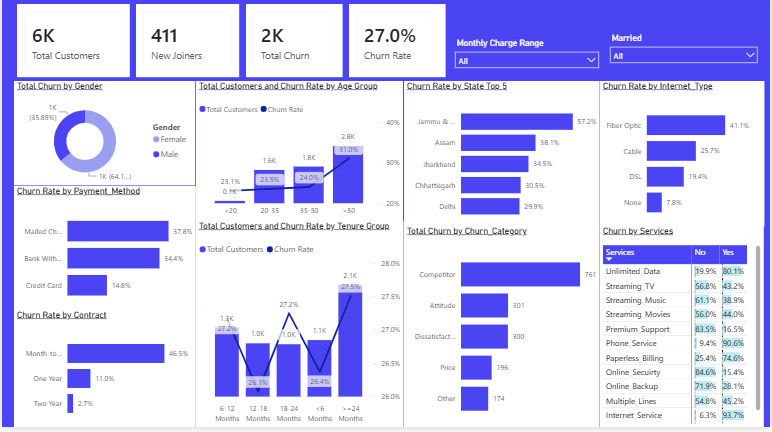

The page's visual inventory and layout, read from the dashboard file:
{"tool":"powerbi","page":{"name":"Summary","canvas":[1280,720],"ordinal":0},"visuals":[{"type":"cardVisual","fields":{"Data":["Tbl_Measures.Total Customers"]},"box":[20,10,198.8,132.5],"z":0},{"type":"cardVisual","fields":{"Data":["Tbl_Measures.New Joiners"]},"box":[218.8,10,182.5,132.5],"z":1000},{"type":"cardVisual","fields":{"Data":["Tbl_Measures.Total Churn"]},"box":[401.7,10,171.3,132.7],"z":2000},{"type":"cardVisual","fields":{"Data":["Tbl_Measures.Churn Rate"]},"box":[573.3,10,171.3,132.7],"z":4000},{"type":"lineStackedColumnComboChart","fields":{"Category":["Mapping_AgeGrp.Age Group"],"Y":["Tbl_Measures.Total Customers"],"Y2":["Tbl_Measures.Churn Rate"]},"box":[323.8,142.5,345,233.8],"z":5000},{"type":"clusteredBarChart","fields":{"Category":["prod_Churn.Payment_Method"],"Y":["Tbl_Measures.Churn Rate"]},"box":[20,317.5,302.5,207.5],"z":6000},{"type":"clusteredBarChart","fields":{"Category":["prod_Churn.Contract"],"Y":["Tbl_Measures.Churn Rate"]},"box":[20,525,302.5,195],"z":7000},{"type":"lineStackedColumnComboChart","fields":{"Category":["Mapping_TenureGrp.Tenure Group"],"Y":["Tbl_Measures.Total Customers"],"Y2":["Tbl_Measures.Churn Rate"]},"box":[322.5,376.2,346,344],"z":8000},{"type":"clusteredBarChart","title":"Churn Rate by State Top 5","fields":{"Category":["prod_Churn.State"],"Y":["Tbl_Measures.Churn Rate"]},"box":[670,142.5,326.2,242.5],"z":9000},{"type":"clusteredBarChart","fields":{"Category":["prod_Churn.Churn_Category"],"Y":["Tbl_Measures.Total Churn"]},"box":[670,385,326.2,335],"z":10000},{"type":"clusteredBarChart","fields":{"Category":["prod_Churn.Internet_Type"],"Y":["Tbl_Measures.Churn Rate"]},"box":[996.2,142.5,273.8,242.5],"z":11000},{"type":"pivotTable","title":"Churn by Services","fields":{"Rows":["prod_Services.Services"],"Columns":["prod_Services.Status"],"Values":["Sum(prod_Services.Churn Status)"]},"box":[996.2,385,272.5,335],"z":12000},{"type":"slicer","fields":{"Values":["prod_Services.Monthly Charge Status"]},"box":[745,66.2,260,76],"z":13000},{"type":"slicer","fields":{"Values":["prod_Churn.Married"]},"box":[1003.8,57.5,266.2,75],"z":14000},{"type":"donutChart","fields":{"Category":["prod_Churn.Gender"],"Y":["Tbl_Measures.Total Churn"]},"box":[20.2,142.6,302.4,174.2],"z":15000}]}

Visuals, with their boxes in screenshot pixels (x1, y1, x2, y2), scaled from the page's 1280x720 canvas onto the 772x432 screenshot:
cardVisual - Tbl_Measures.Total Customers: 12 6 132 86
cardVisual - Tbl_Measures.New Joiners: 132 6 242 86
cardVisual - Tbl_Measures.Total Churn: 242 6 346 86
cardVisual - Tbl_Measures.Churn Rate: 346 6 449 86
lineStackedColumnComboChart - Mapping_AgeGrp.Age Group x Tbl_Measures.Total Customers: 195 86 403 226
clusteredBarChart - prod_Churn.Payment_Method x Tbl_Measures.Churn Rate: 12 190 195 315
clusteredBarChart - prod_Churn.Contract x Tbl_Measures.Churn Rate: 12 315 195 431
lineStackedColumnComboChart - Mapping_TenureGrp.Tenure Group x Tbl_Measures.Total Customers: 195 226 403 431
"Churn Rate by State Top 5" clusteredBarChart: 404 86 601 231
clusteredBarChart - prod_Churn.Churn_Category x Tbl_Measures.Total Churn: 404 231 601 431
clusteredBarChart - prod_Churn.Internet_Type x Tbl_Measures.Churn Rate: 601 86 766 231
"Churn by Services" pivotTable: 601 231 765 431
slicer - prod_Services.Monthly Charge Status: 449 40 606 85
slicer - prod_Churn.Married: 605 34 766 80
donutChart - prod_Churn.Gender x Tbl_Measures.Total Churn: 12 86 195 190
